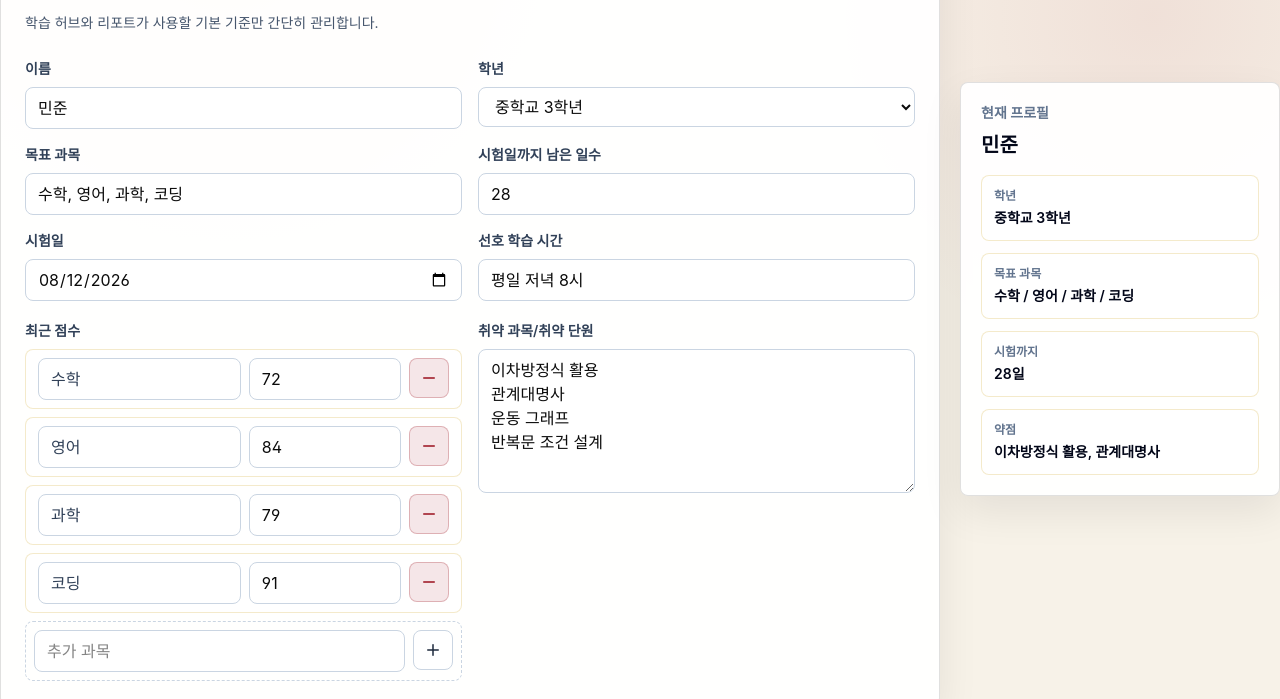
Scenario: OnboardingForm › adds a custom recent-score subject with the plus button
(page scrolled)
Step 1. Type "물리" into the field named "추가할 과목명" → (220, 651), box [34,630,405,672]
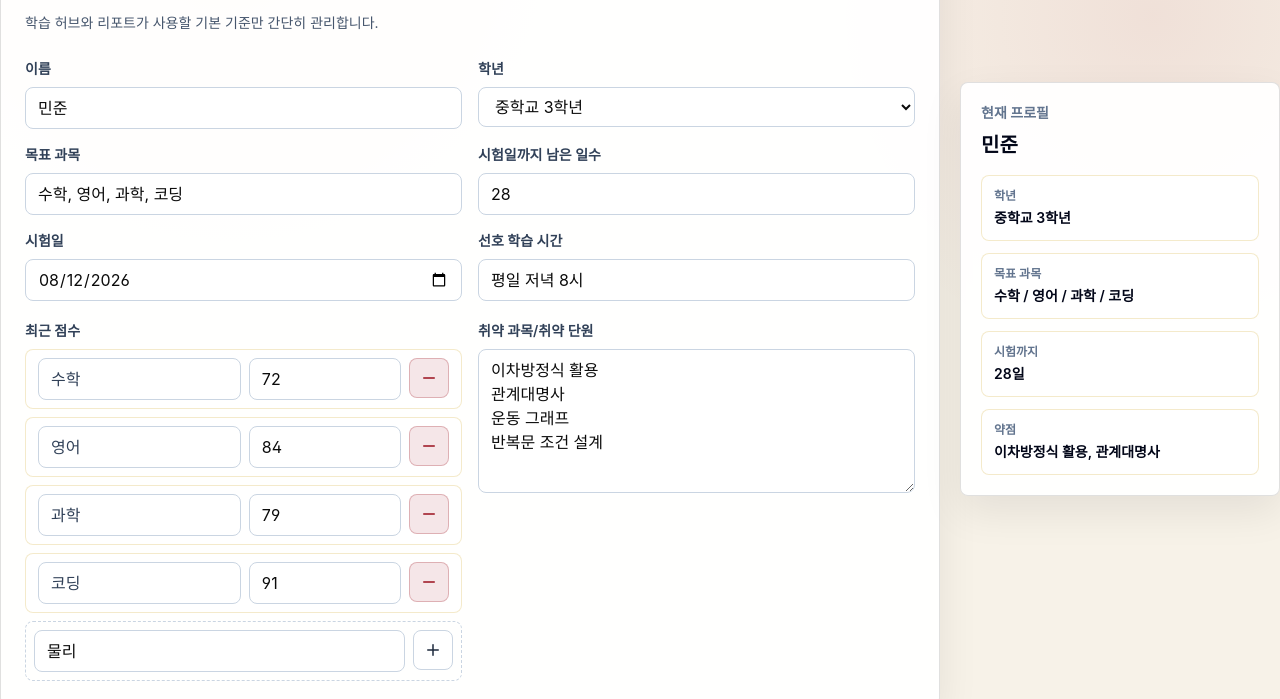
Step 2. Click the button named "최근 점수 과목 추가" → (433, 650), box [413,630,453,670]
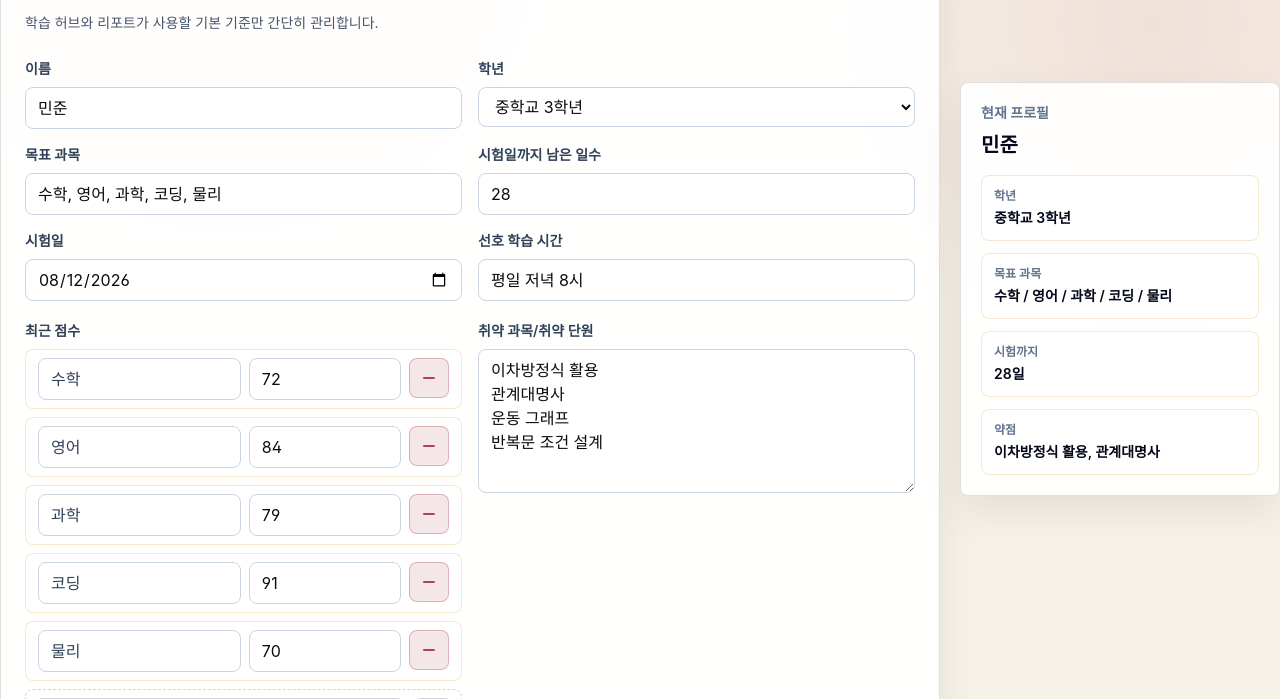
Expected: the field named "물리 과목명" is shown, [38,630,241,672]
Expected: the number field named "물리 최근 점수" holds "70", [249,630,401,672]
